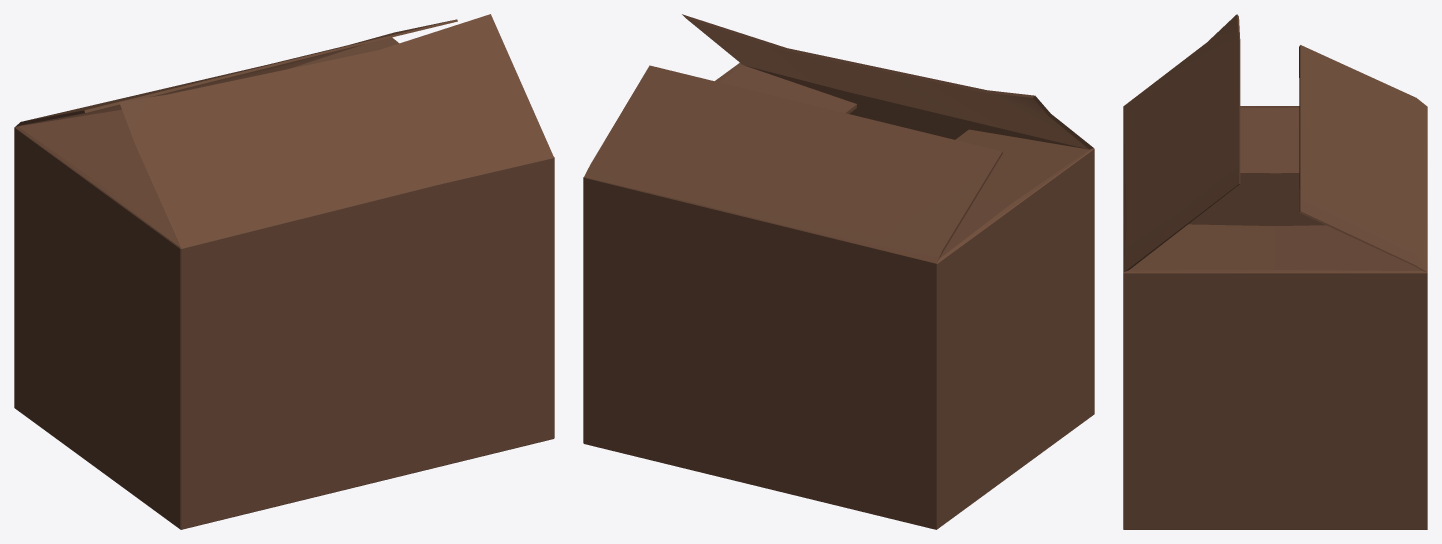
File: cardboard.fbx
3 renders of one model, left to right at view 1: azimuth 30°, elevation 25°; view 2: azimuth 150°, elevation 25°; view 3: azimuth 270°, elevation 25°, orthographic. The views are drawn at different scales.
Parts seen in each view (by area): view 1: pCube14; view 2: pCube14; view 3: pCube14.
Part boxes in pixels (x1,y1,x2,y2): pCube14: [14, 14, 554, 529]; pCube14: [583, 14, 1094, 529]; pCube14: [1123, 14, 1427, 529].
Size of the model in its own units: 48.91 by 47.76 by 37.71.
